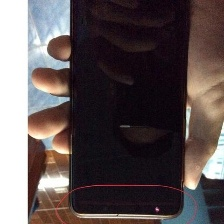phone: (62, 0, 201, 222)
